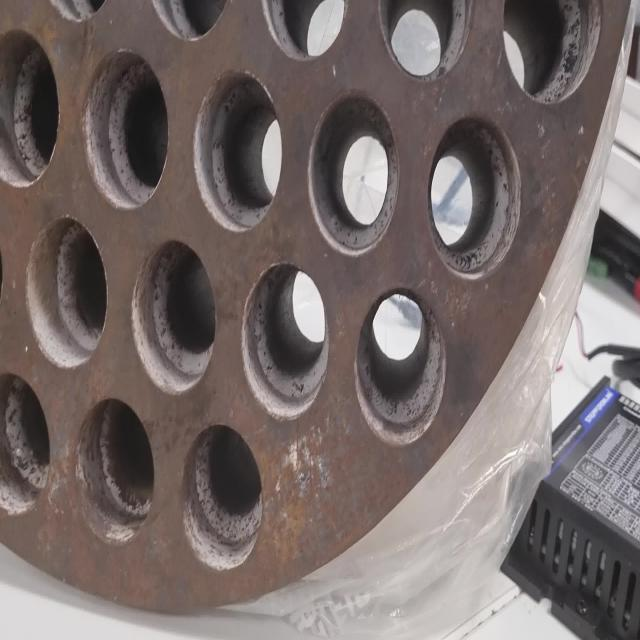Hole: (428, 114, 522, 280), (307, 90, 400, 256), (354, 286, 446, 447), (193, 69, 282, 233), (82, 47, 168, 211), (241, 262, 329, 421), (130, 241, 216, 395), (24, 216, 108, 370), (74, 395, 155, 545), (182, 424, 264, 572), (502, 0, 603, 106), (1, 29, 60, 188), (378, 1, 474, 80), (0, 370, 51, 517), (259, 1, 350, 62)
